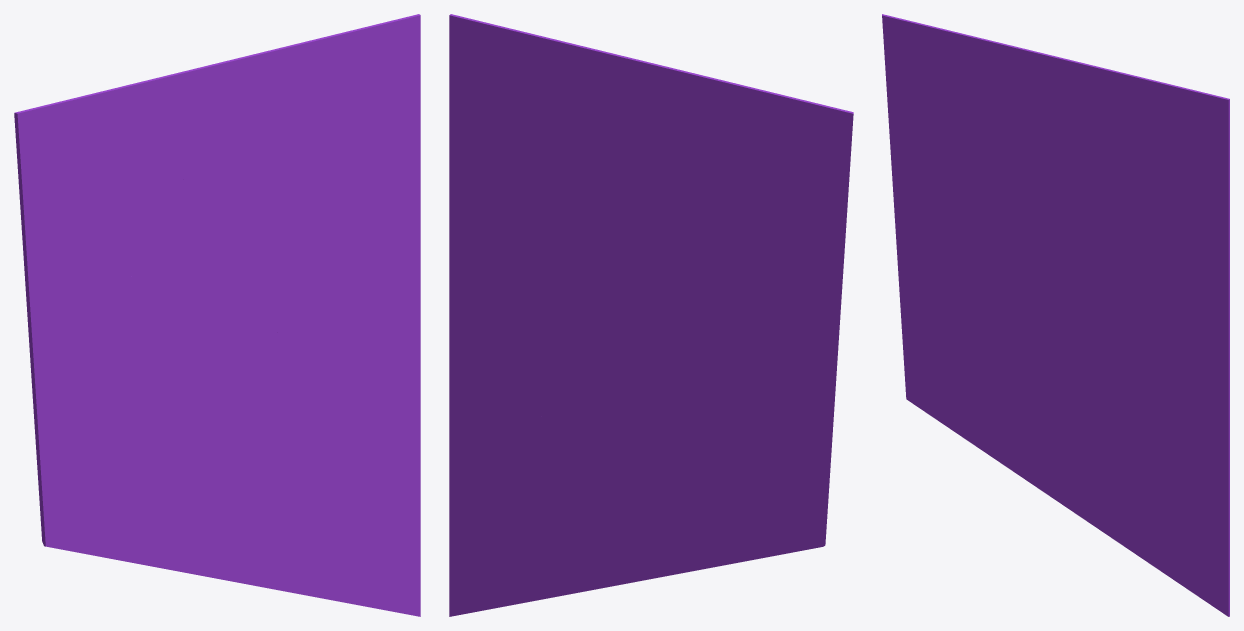
File: Glass_78_7_chunks.fbx
3 views of the same model, side by side, from view 1: azimuth 30°, elevation 25°; view 2: azimuth 150°, elevation 25°; view 3: azimuth 330°, elevation 25° (orthographic). The views are drawn at different scales.
Visible parts, largest first — view 1: Glass_78_7_9, Glass_78_7_10, Glass_78_7_7, Glass_78_7_1, Glass_78_7_2, Glass_78_7_6, Glass_78_7_4, Glass_78_7_11, Glass_78_7_3, Glass_78_7_8, Glass_78_7_5, Glass_78_7_0; view 2: Glass_78_7_9, Glass_78_7_10, Glass_78_7_7, Glass_78_7_2, Glass_78_7_6, Glass_78_7_4, Glass_78_7_1, Glass_78_7_11, Glass_78_7_3, Glass_78_7_8, Glass_78_7_5; view 3: Glass_78_7_9, Glass_78_7_10, Glass_78_7_7, Glass_78_7_1, Glass_78_7_2, Glass_78_7_4, Glass_78_7_6, Glass_78_7_11, Glass_78_7_3, Glass_78_7_8, Glass_78_7_5, Glass_78_7_0.
Boxes of the visible parts, x1,y1,x2,y2 form: Glass_78_7_9: [157, 14, 420, 188]; Glass_78_7_10: [298, 89, 420, 350]; Glass_78_7_7: [16, 78, 202, 284]; Glass_78_7_1: [238, 470, 420, 616]; Glass_78_7_2: [41, 420, 252, 582]; Glass_78_7_6: [38, 258, 218, 528]; Glass_78_7_4: [139, 331, 407, 476]; Glass_78_7_11: [174, 143, 300, 335]; Glass_78_7_3: [264, 358, 420, 476]; Glass_78_7_8: [14, 112, 99, 357]; Glass_78_7_5: [30, 282, 103, 482]; Glass_78_7_0: [216, 325, 420, 359]; Glass_78_7_9: [449, 14, 711, 191]; Glass_78_7_10: [449, 90, 570, 352]; Glass_78_7_7: [668, 78, 853, 282]; Glass_78_7_2: [615, 418, 826, 582]; Glass_78_7_6: [651, 256, 829, 527]; Glass_78_7_4: [459, 326, 730, 474]; Glass_78_7_1: [449, 481, 629, 616]; Glass_78_7_11: [568, 143, 695, 337]; Glass_78_7_3: [449, 352, 616, 487]; Glass_78_7_8: [768, 113, 853, 358]; Glass_78_7_5: [773, 293, 837, 475]; Glass_78_7_9: [1003, 44, 1229, 199]; Glass_78_7_10: [1123, 163, 1229, 389]; Glass_78_7_7: [882, 14, 1040, 216]; Glass_78_7_1: [1072, 425, 1229, 616]; Glass_78_7_2: [905, 329, 1084, 510]; Glass_78_7_4: [986, 285, 1216, 425]; Glass_78_7_6: [902, 198, 1054, 383]; Glass_78_7_11: [1017, 107, 1125, 324]; Glass_78_7_3: [1094, 389, 1229, 504]; Glass_78_7_8: [882, 14, 952, 225]; Glass_78_7_5: [895, 195, 955, 342]; Glass_78_7_0: [1053, 281, 1229, 395].
Size of the model in its own units: 718 by 1021 by 5.32.
